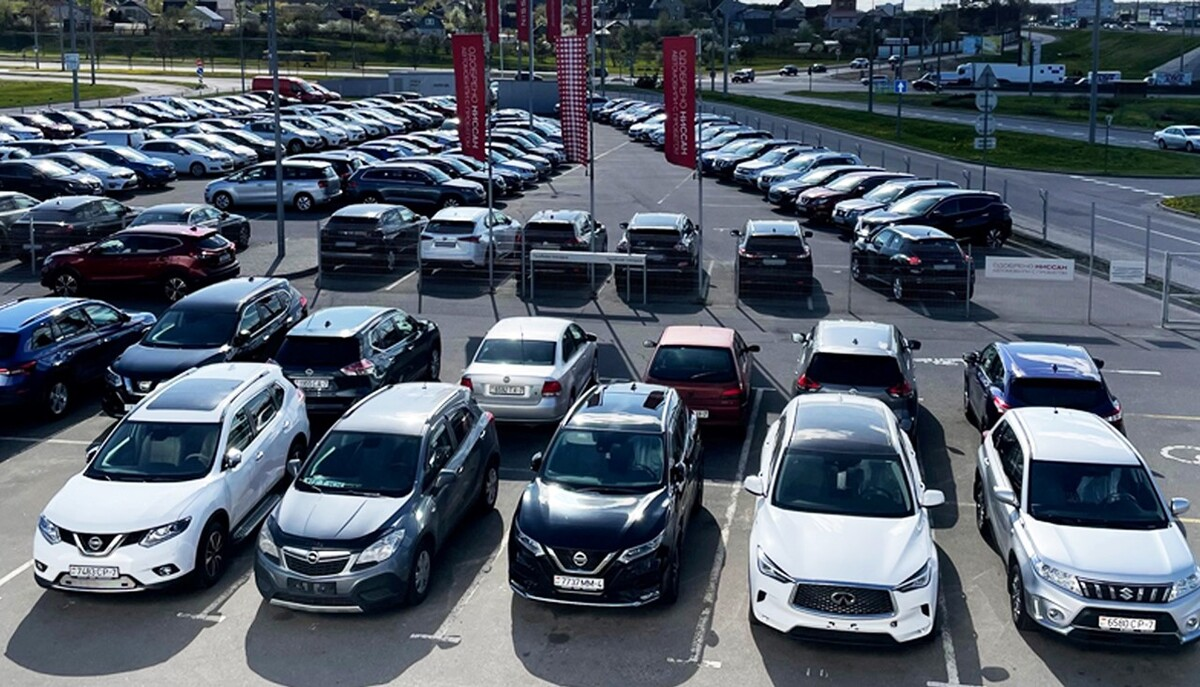Car: (31, 362, 311, 594), (254, 382, 500, 612), (973, 408, 1200, 646), (742, 393, 945, 644), (507, 382, 703, 608), (103, 277, 308, 418), (274, 306, 442, 429), (0, 296, 157, 419), (39, 223, 240, 301), (963, 341, 1126, 436), (791, 320, 921, 436), (460, 315, 598, 424), (643, 324, 760, 430), (7, 195, 147, 266), (852, 189, 1013, 250), (850, 225, 976, 300), (832, 177, 962, 236), (417, 206, 522, 279), (318, 203, 429, 271), (513, 208, 608, 282), (204, 160, 343, 210), (612, 210, 700, 288), (730, 218, 814, 298), (348, 162, 487, 209), (795, 171, 916, 224), (382, 156, 506, 205), (131, 202, 252, 250), (768, 164, 887, 212), (757, 150, 865, 197), (67, 145, 178, 189), (26, 152, 138, 194), (734, 144, 831, 191), (0, 160, 104, 201), (712, 138, 803, 182), (134, 139, 234, 178), (439, 147, 538, 186), (433, 154, 524, 195), (281, 152, 363, 192), (0, 190, 44, 260), (485, 132, 561, 170), (485, 128, 567, 163), (695, 129, 777, 164), (174, 134, 258, 167), (956, 62, 1066, 87), (243, 121, 323, 155), (263, 116, 347, 148), (485, 142, 552, 181), (207, 130, 287, 162), (697, 138, 763, 175), (313, 111, 386, 141), (252, 75, 324, 104), (142, 96, 213, 122), (5, 114, 75, 139), (369, 105, 433, 132), (43, 112, 108, 138), (486, 113, 562, 134), (311, 116, 366, 145), (494, 121, 562, 144), (348, 110, 406, 135), (491, 108, 562, 128), (103, 105, 179, 123), (92, 108, 157, 129), (127, 101, 190, 122), (1153, 125, 1200, 153), (262, 50, 331, 69), (70, 109, 131, 130), (363, 108, 412, 134), (383, 135, 445, 155), (615, 104, 664, 129), (359, 140, 431, 157), (395, 104, 445, 128), (79, 130, 145, 148), (597, 100, 646, 124), (694, 124, 755, 143), (0, 140, 76, 155), (628, 113, 667, 141), (621, 106, 666, 130), (587, 98, 633, 121), (408, 131, 462, 150), (610, 103, 654, 126), (0, 117, 44, 140), (344, 145, 407, 161), (404, 99, 457, 118), (200, 97, 253, 116), (321, 150, 383, 165), (184, 99, 232, 118), (215, 96, 266, 113), (249, 90, 302, 106), (148, 123, 204, 138), (1143, 70, 1193, 86), (1073, 70, 1121, 84), (309, 83, 341, 103), (919, 72, 958, 87), (235, 94, 279, 107), (285, 104, 340, 114), (642, 120, 665, 143), (53, 138, 108, 147), (265, 107, 313, 117), (198, 119, 244, 129), (586, 94, 610, 113), (421, 96, 458, 108), (0, 147, 31, 161), (911, 79, 943, 91), (387, 90, 424, 100), (860, 73, 890, 85), (730, 68, 754, 83), (325, 101, 361, 110), (373, 94, 405, 104), (142, 130, 171, 141), (227, 116, 261, 125), (651, 128, 665, 149), (196, 122, 222, 133), (359, 98, 393, 106), (425, 128, 459, 136), (586, 67, 608, 79), (778, 64, 798, 76), (245, 113, 284, 119), (515, 73, 544, 81), (1150, 20, 1171, 31), (442, 118, 460, 130), (489, 81, 499, 102), (849, 58, 869, 68), (350, 101, 377, 108), (0, 133, 16, 144), (439, 95, 458, 103), (888, 55, 904, 64), (811, 63, 827, 72), (1156, 25, 1168, 32), (1109, 24, 1119, 30), (1123, 25, 1135, 30), (1103, 23, 1111, 29), (1054, 22, 1063, 27), (1070, 23, 1079, 28)
